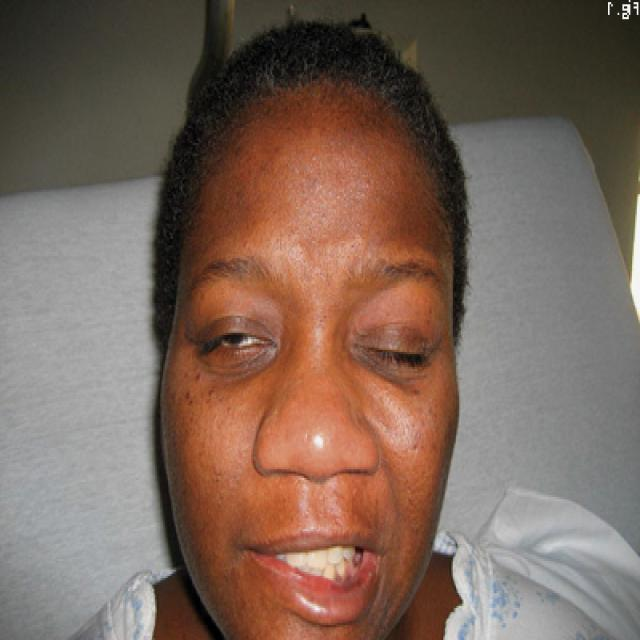stroke_face: (168, 139, 440, 640)
